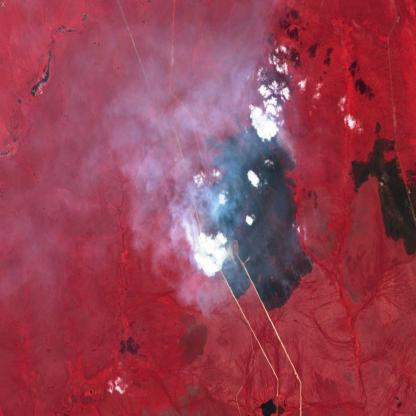fire: (211, 104, 311, 316)
